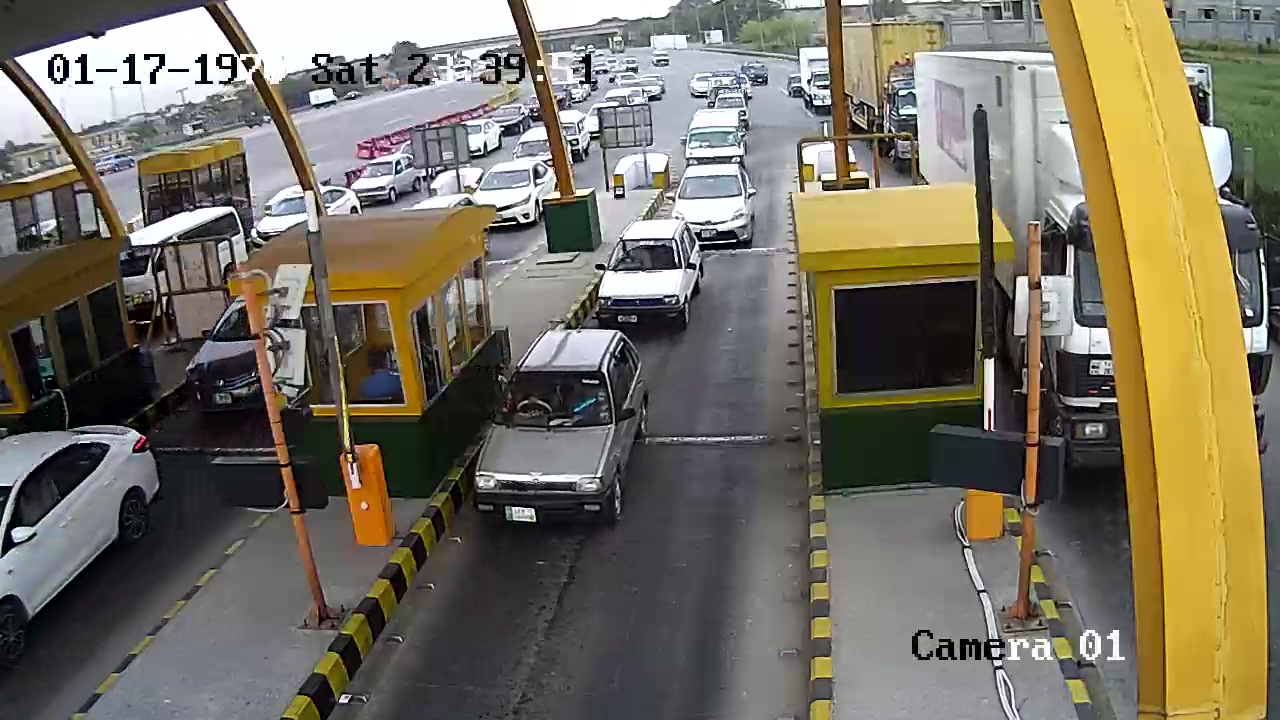F1: (474, 325, 663, 535), (593, 207, 715, 330)
